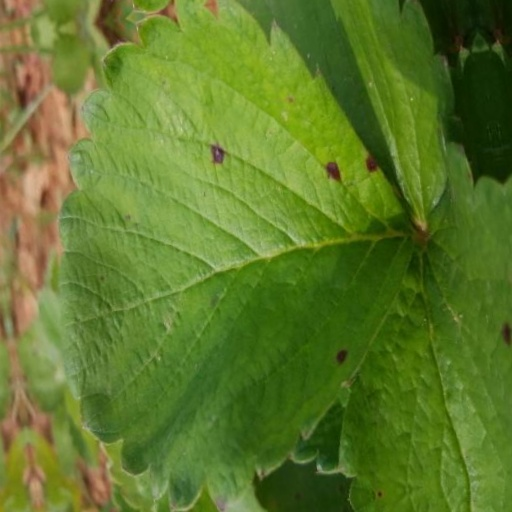Leaf Spot: (48, 6, 419, 511), (302, 0, 511, 337), (217, 0, 313, 52)
